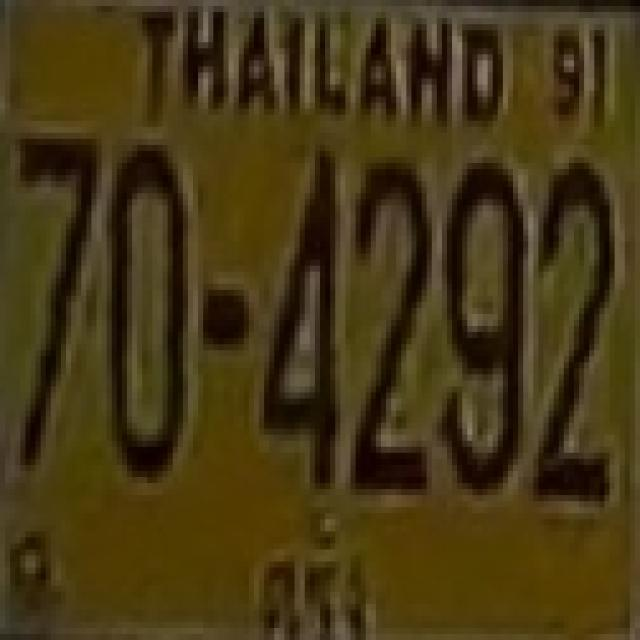0: (104, 142, 186, 353), (442, 160, 523, 365)
2: (528, 281, 610, 498)
7: (18, 133, 99, 320)
TRG: (234, 512, 378, 640)
